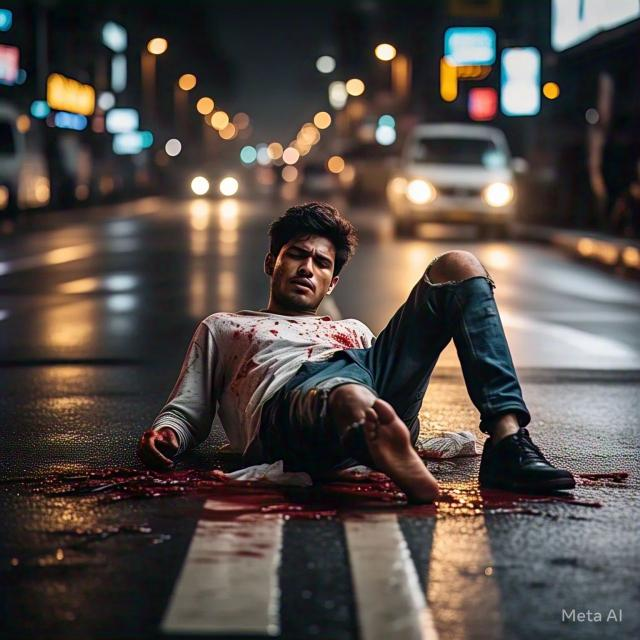injury: (264, 202, 346, 316), (137, 427, 189, 472)
